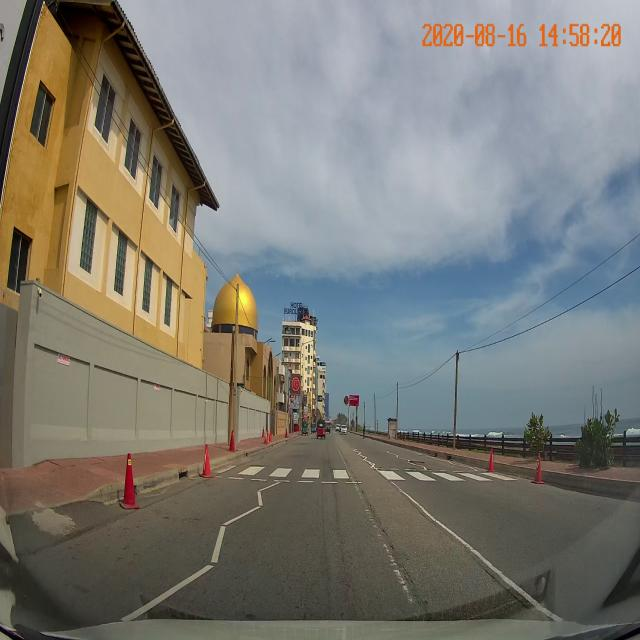Crosswalk: (211, 462, 521, 486)
